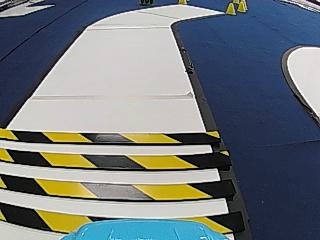bump: (10, 121, 237, 223)
